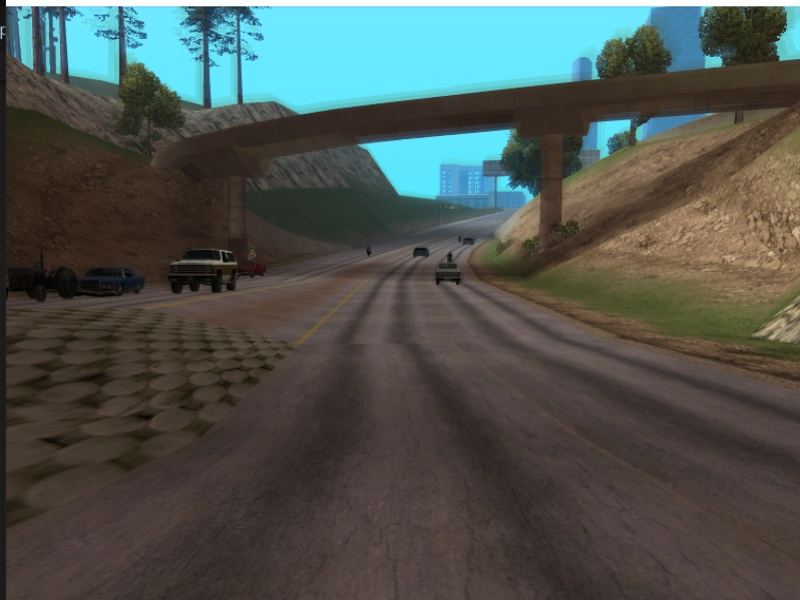vehicle: (171, 245, 240, 296), (2, 256, 75, 303), (77, 262, 148, 301), (432, 259, 464, 287), (241, 258, 267, 277), (413, 243, 430, 258), (363, 242, 374, 258), (464, 235, 474, 247)
